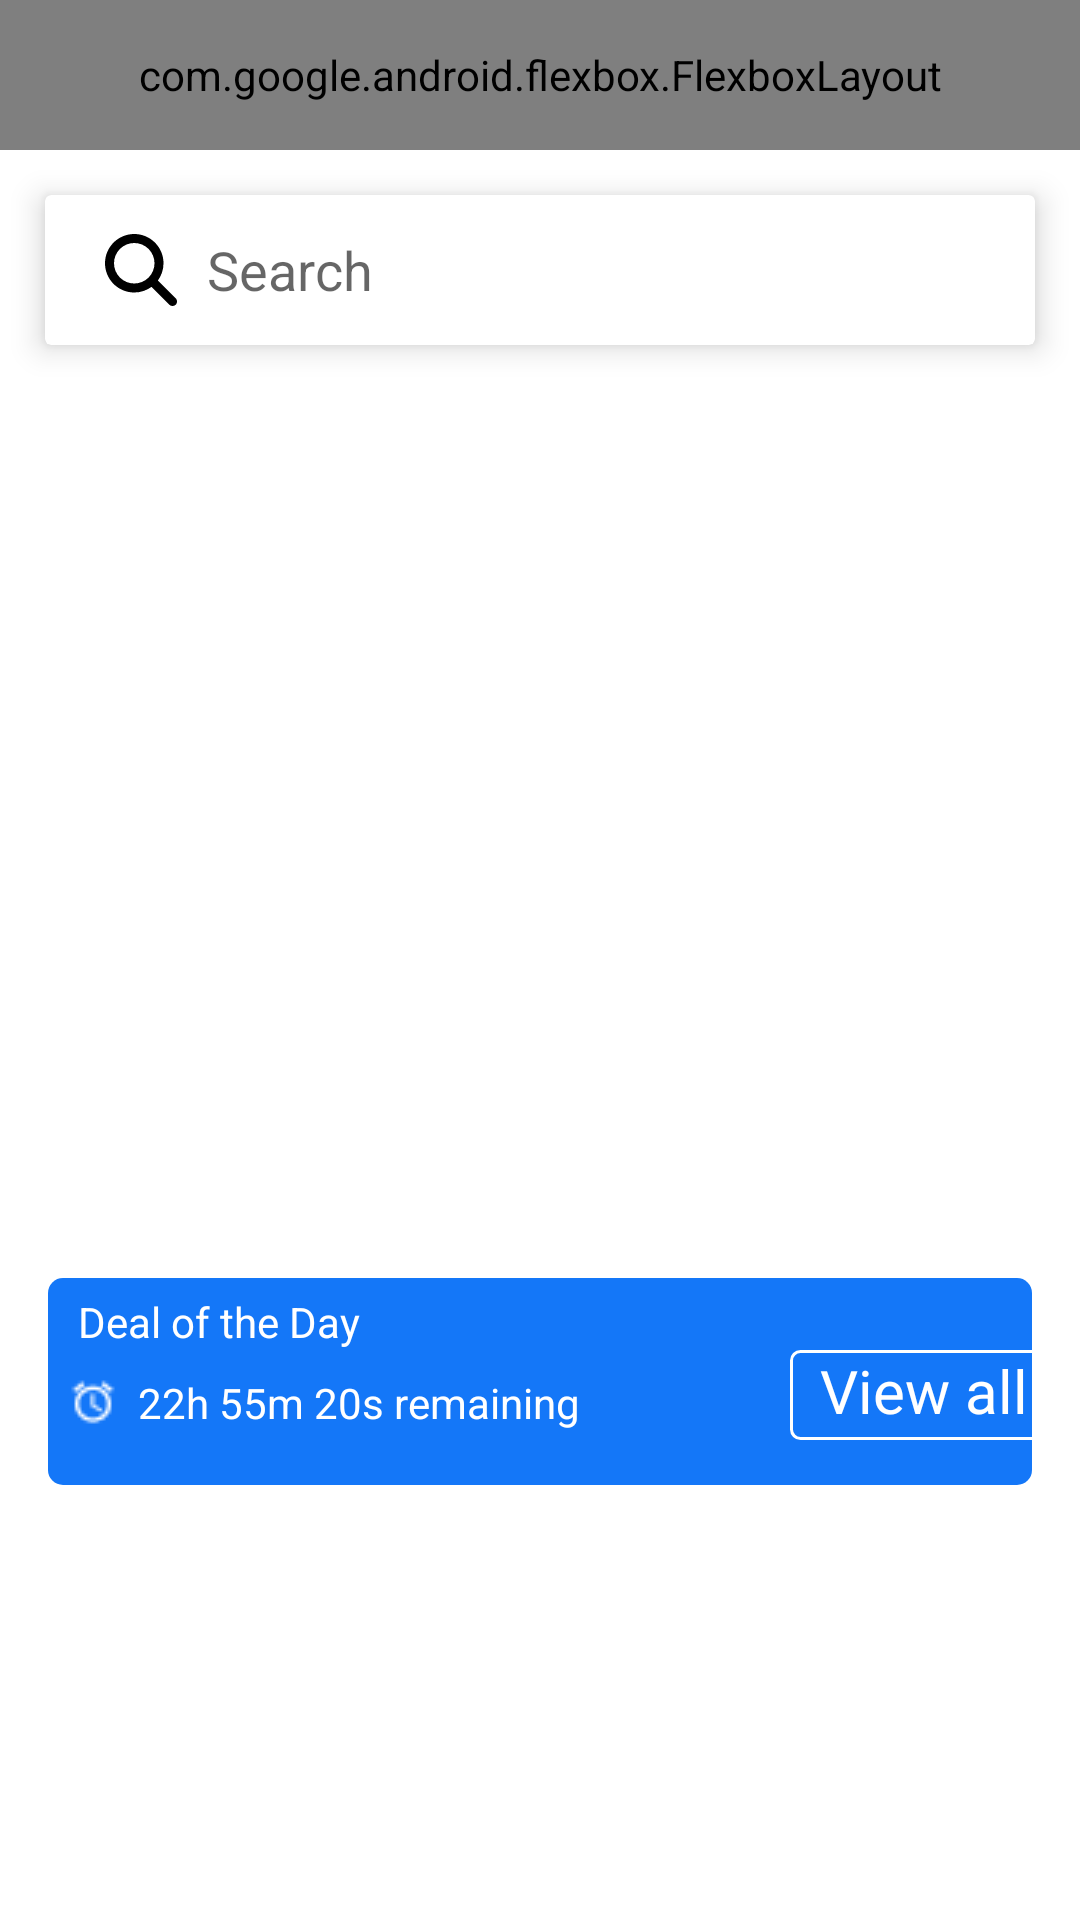

Icon click points for this 1080 × 1920 phone screenshot, format point (x, y):
dongho: point (93, 1402)
